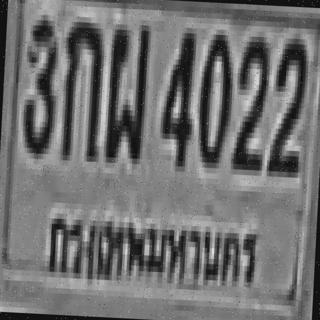A01: (59, 16, 102, 157)
A28: (104, 19, 149, 159)
N00: (195, 29, 233, 163)
N02: (267, 32, 308, 173), (230, 28, 269, 168)
N03: (20, 9, 58, 154)
N04: (159, 24, 195, 164)
P04: (37, 196, 268, 303)
